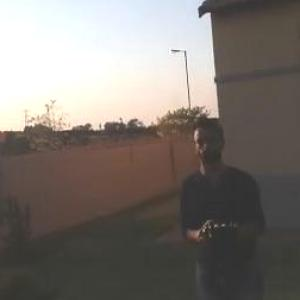follow: (174, 113, 271, 299)
